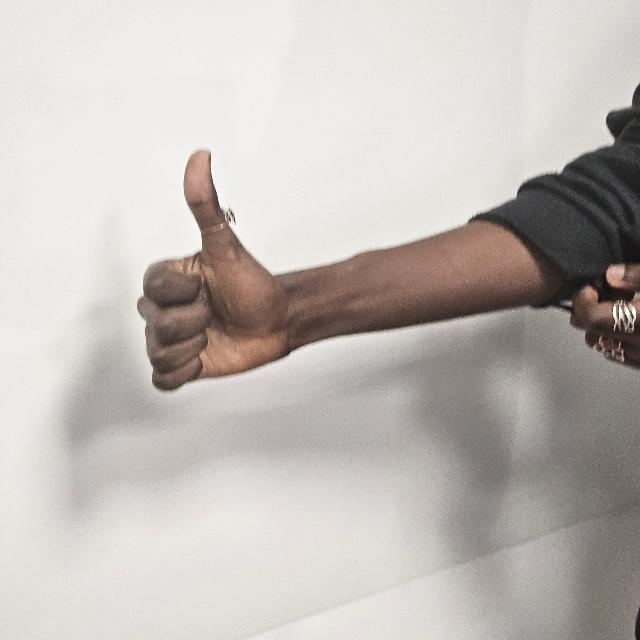Start: (136, 145, 308, 411)
